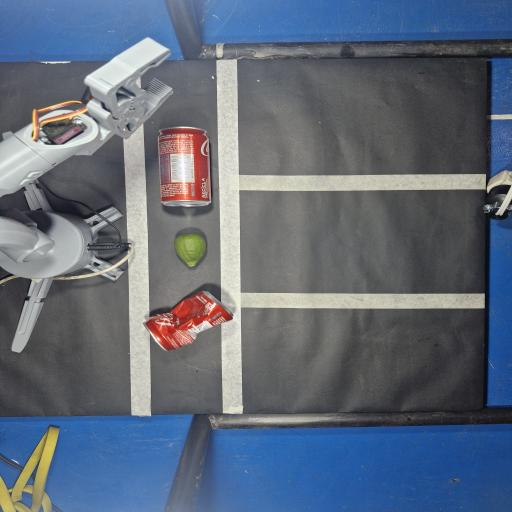higo: (174, 234, 206, 267)
lata: (158, 127, 211, 206)
lata_defectuoso: (144, 291, 232, 350)
